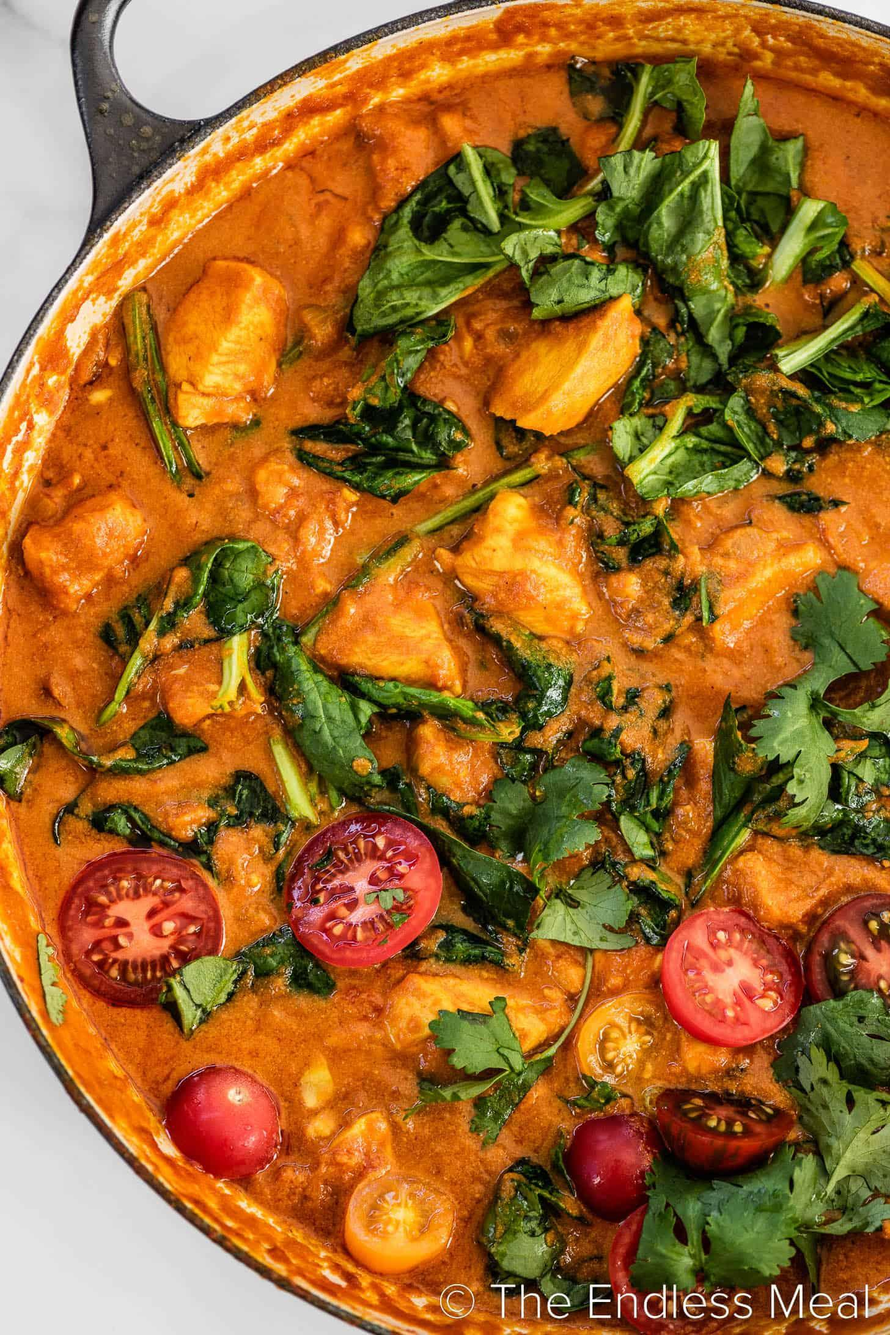chicken: (34, 20, 890, 1306)
